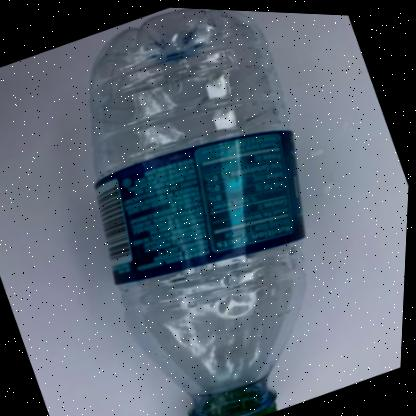Plastic: (89, 6, 307, 416)
